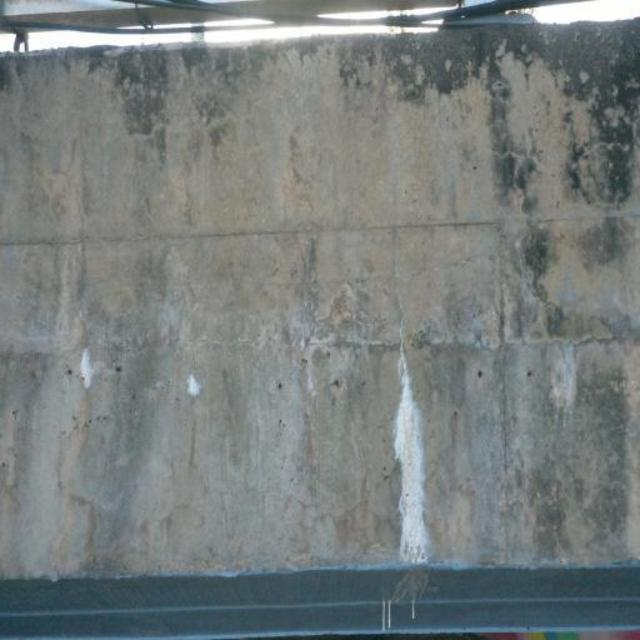D01: (394, 350, 429, 565)
